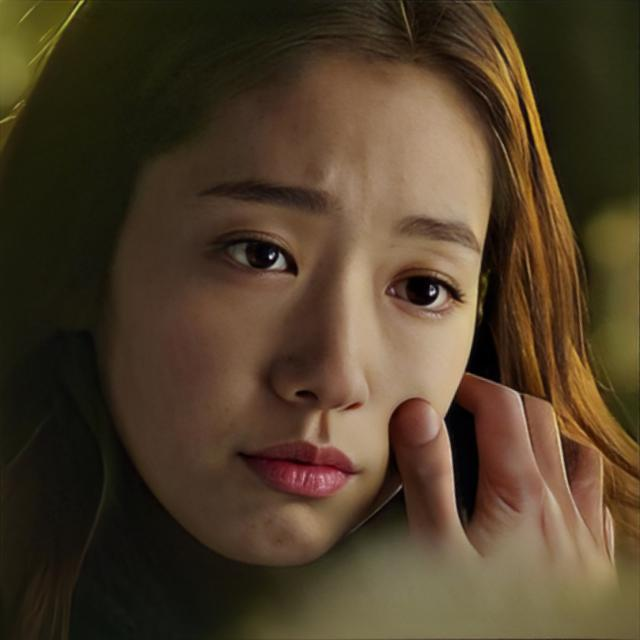sad: (106, 41, 488, 570)
